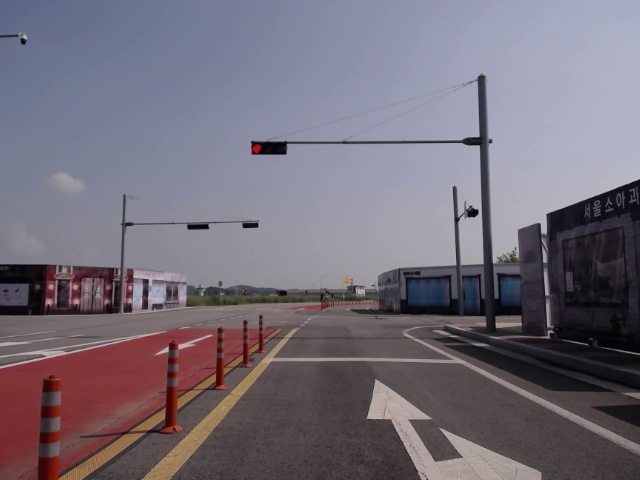red_3: (252, 144, 287, 155)
